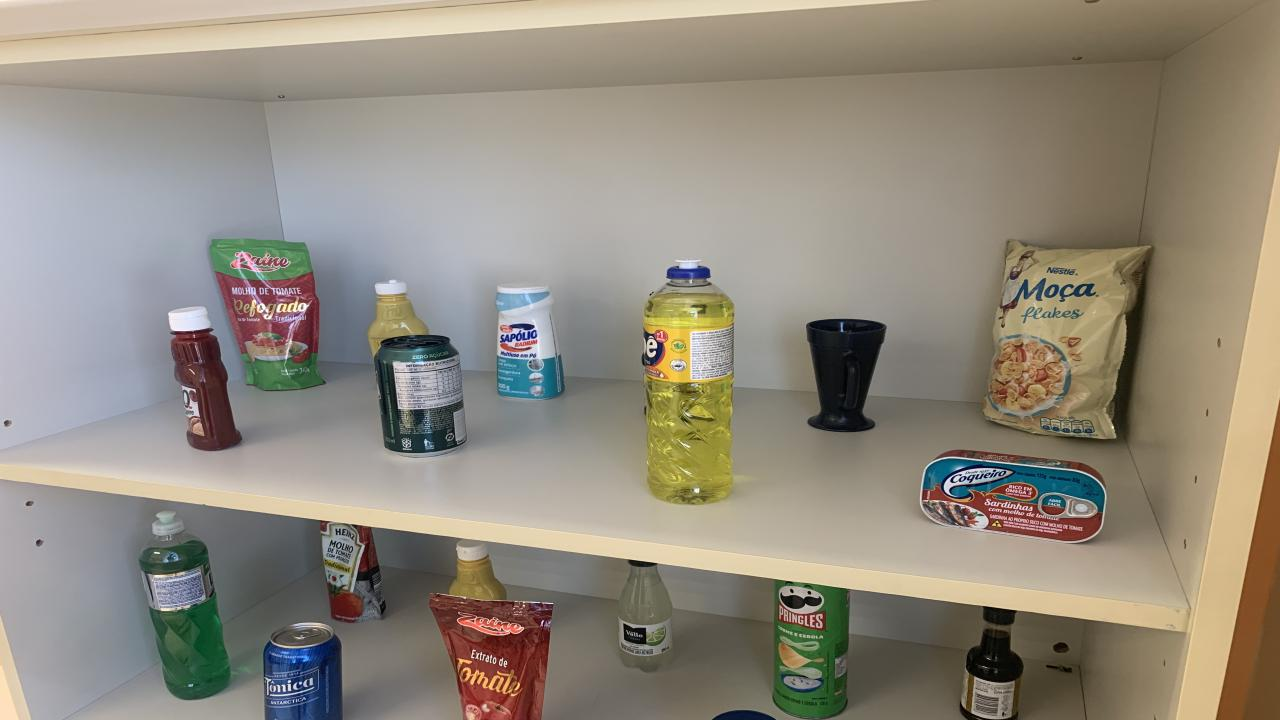Cleaner-Cleanup_Items: (495, 283, 565, 399)
Detergent-Cleanup_Items: (642, 261, 735, 504), (140, 512, 230, 699)
English_Sauce-Pantry_Items: (960, 608, 1022, 720)
Flakes-Snacks: (982, 240, 1152, 439)
Guarana_Can-Drinks: (375, 334, 468, 456)
Ketchup-Pantry_Items: (168, 308, 242, 450)
Mustard-Pantry_Items: (368, 279, 430, 354), (450, 540, 508, 600)
Pringles-Snacks: (772, 579, 850, 718)
Soda-Drinks: (618, 561, 672, 673)
Tomato_Sauce-Pantry_Items: (210, 238, 322, 390), (430, 594, 552, 720), (320, 521, 385, 622)
Tonic-Drinks: (262, 622, 342, 720)
Tuna_Can-Pantry_Items: (920, 450, 1108, 542)
